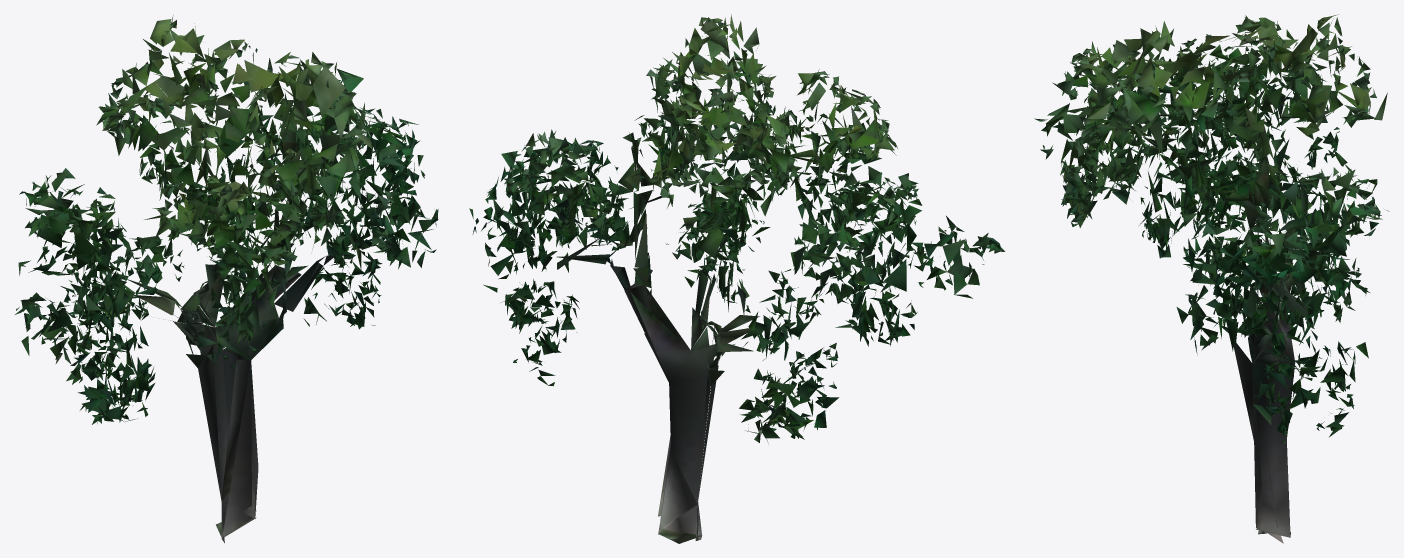
File: broadleaf-a.glb
3 renders of one model, left to right at view 1: azimuth 30°, elevation 25°; view 2: azimuth 150°, elevation 25°; view 3: azimuth 270°, elevation 25°, orthographic. The views are drawn at different scales.
Visible parts, largest first — view 1: Mesh_0; view 2: Mesh_0; view 3: Mesh_0.
Part boxes in pixels (x1,y1,x2,y2): Mesh_0: [15, 15, 438, 543]; Mesh_0: [469, 14, 1004, 543]; Mesh_0: [1034, 14, 1389, 543].
Size of the model in its own units: 7.94 by 8.03 by 4.97.
1 material, 1 textured.
